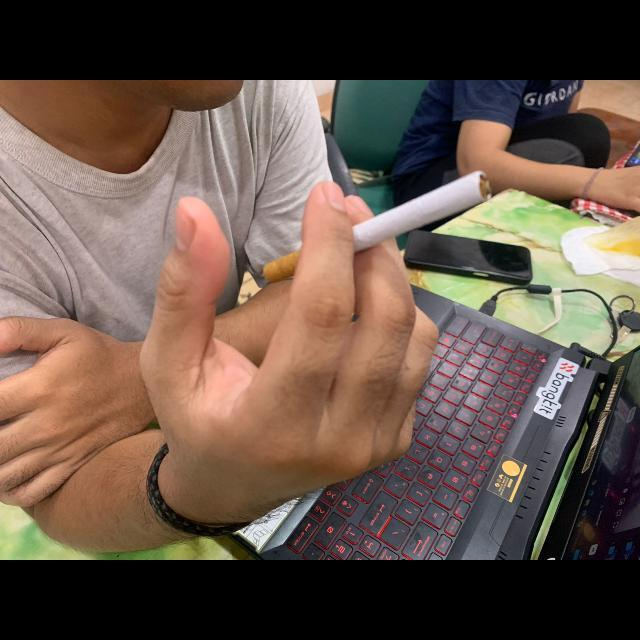rokok: (231, 155, 509, 315)
